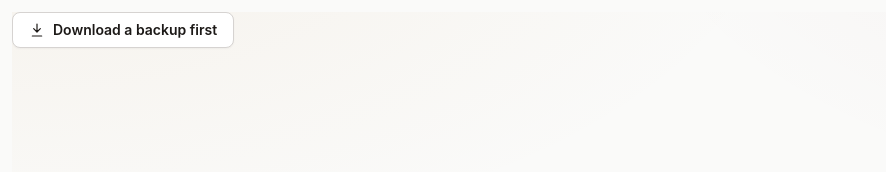
Test: BackupButton › treats a thrown error as a failure instead of leaving the button spinning
Click the button "Download a backup first": (123, 30) [12, 12, 234, 48]
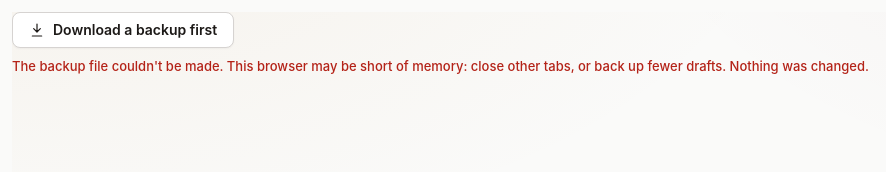
Now the message shows "couldn't be made", box [12, 58, 869, 74]
